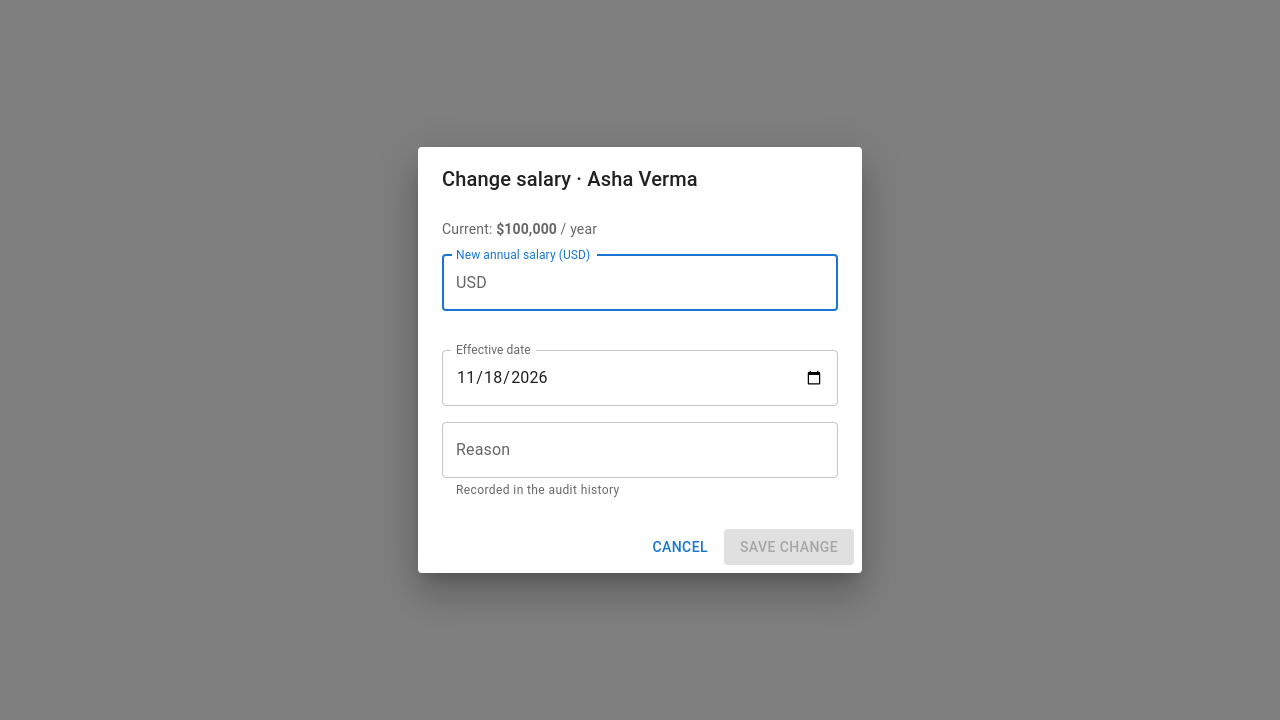
Test: SalaryChangeDialog › shows the percentage change live
The image size is (1280, 720).
Type "110000" into the field labelled "New annual salary (USD)" at [666, 283], box x1=495 y1=255 x2=838 y2=311
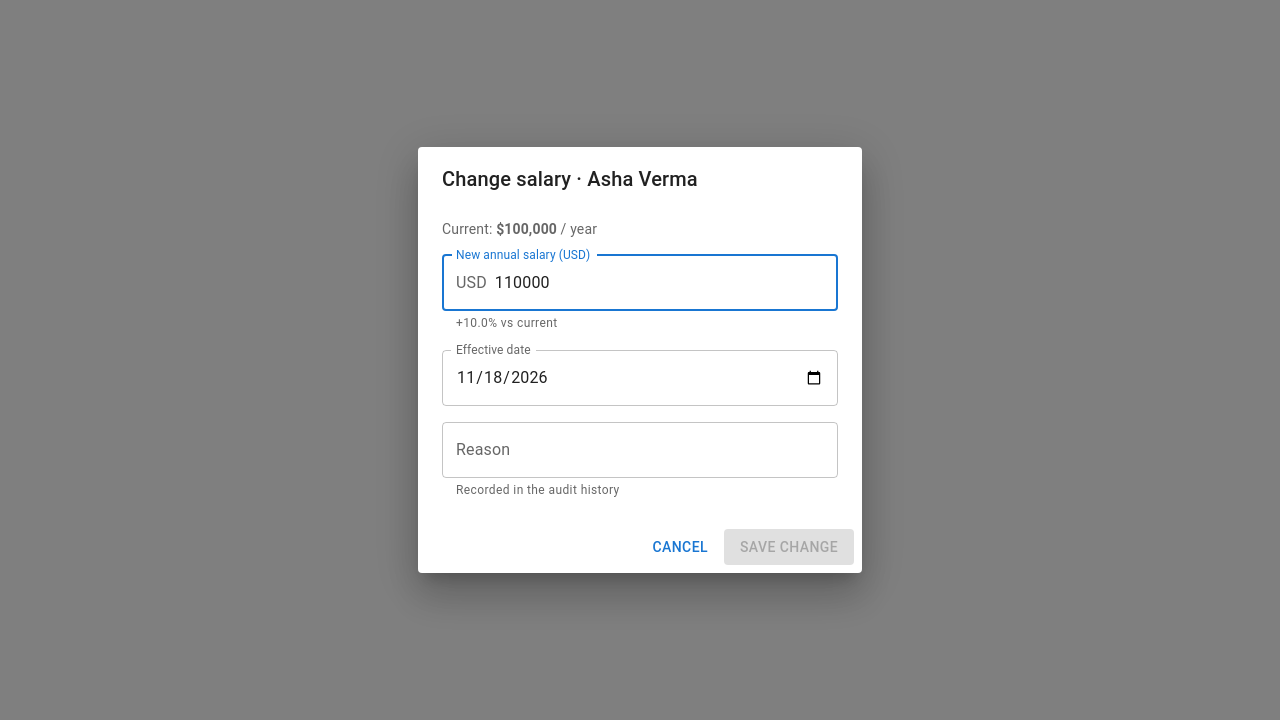
Expected: the text "+10.0% vs current" is shown, x1=456 y1=316 x2=558 y2=330
